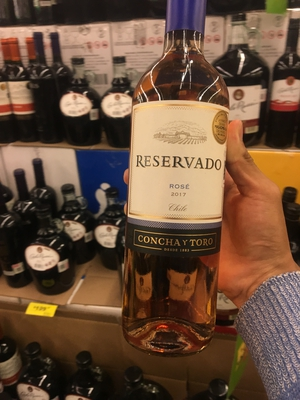reservado rose: (120, 4, 234, 353)
